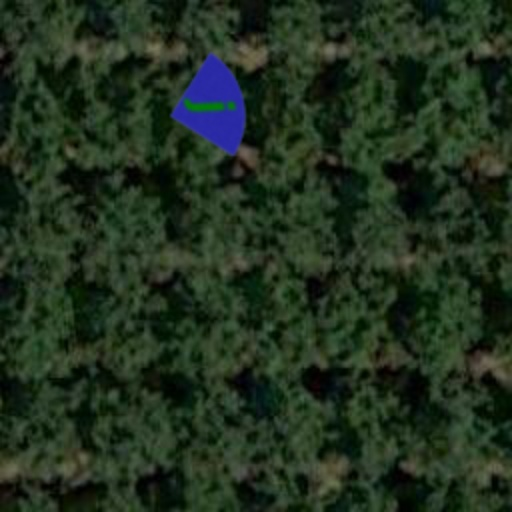quarter_circle: (152, 44, 276, 168)
